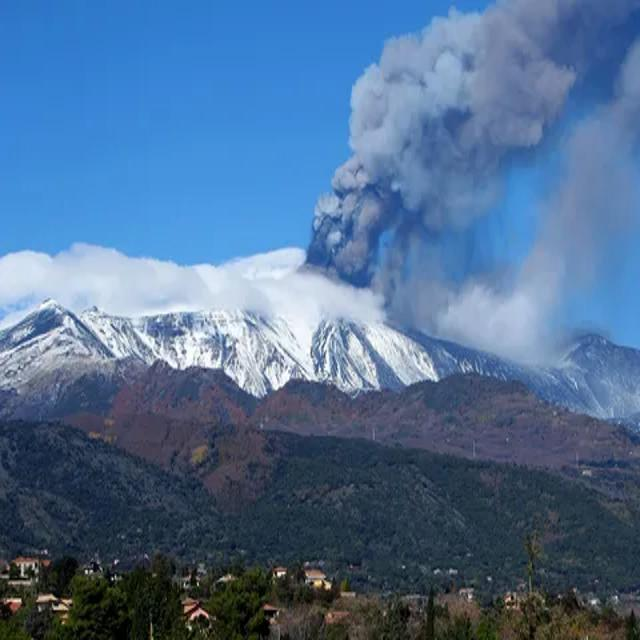Smoke: (307, 0, 640, 360)
